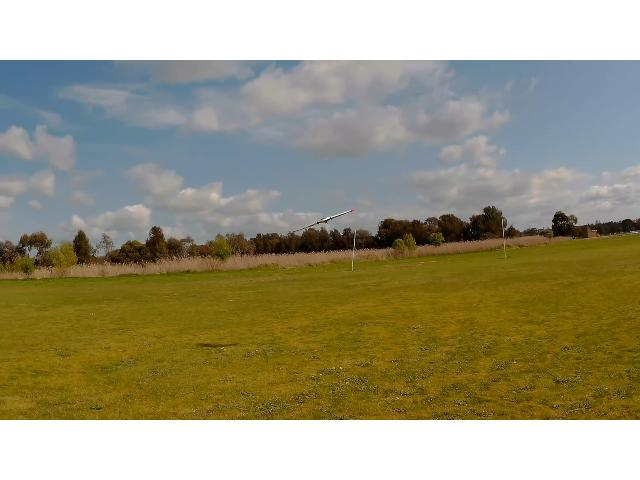Anti-Drone: (294, 208, 358, 232)
